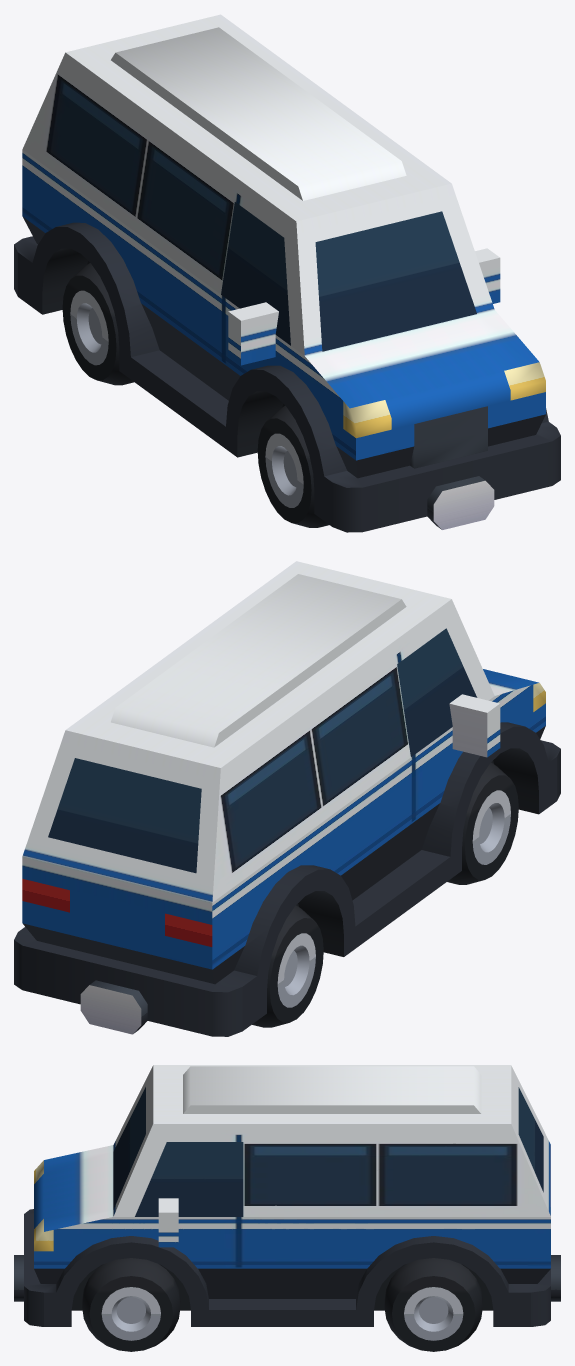
The model's file is candongueiro_low.glb.
3 renders of one model, top to bottom at view 1: azimuth 30°, elevation 25°; view 2: azimuth 150°, elevation 25°; view 3: azimuth 270°, elevation 25°, orthographic. The views are drawn at different scales.
Parts seen in each view (by area): view 1: body, wheel-back-right, wheel-front-right; view 2: body, wheel-back-right, wheel-front-right; view 3: body, wheel-front-left, wheel-back-left.
Part boxes in pixels (bbox=[...]): body: bbox=[14, 14, 560, 532]; wheel-back-right: bbox=[62, 263, 133, 385]; wheel-front-right: bbox=[257, 405, 328, 527]; body: bbox=[14, 561, 560, 1036]; wheel-back-right: bbox=[252, 905, 323, 1027]; wheel-front-right: bbox=[447, 762, 518, 884]; body: bbox=[14, 1065, 560, 1326]; wheel-front-left: bbox=[82, 1258, 180, 1351]; wheel-back-left: bbox=[384, 1258, 482, 1351].
Bounding box in the file's own units: 1.73 × 1.92 × 4.07.
1 material, 1 textured.
